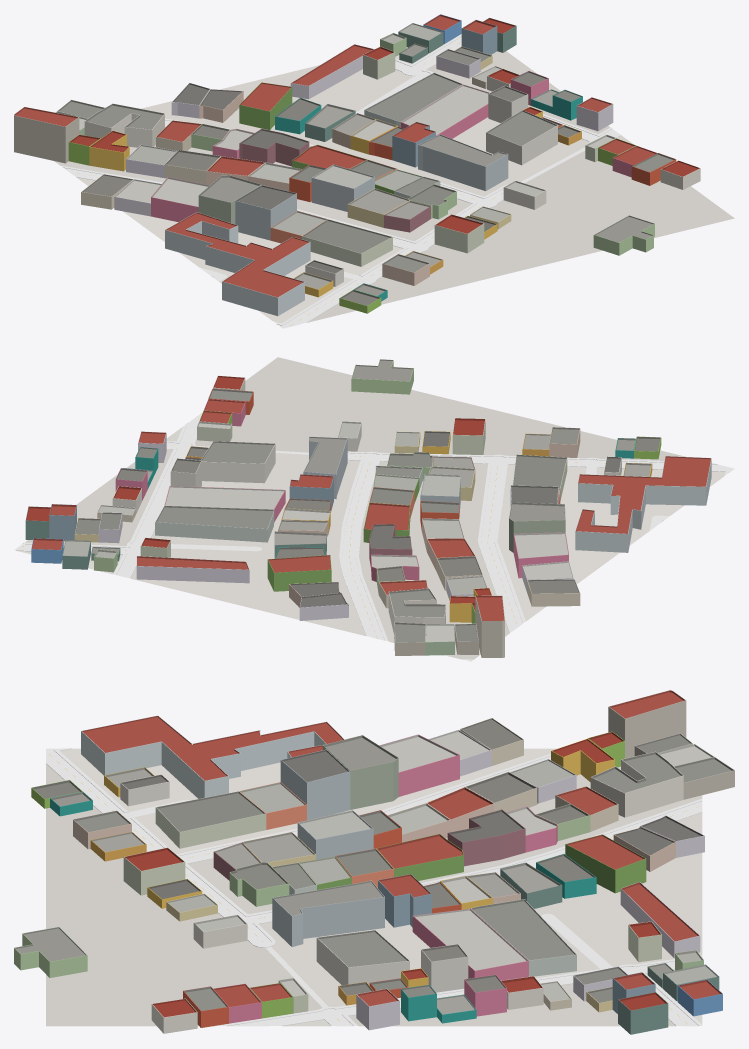
The picture shows the model from 3 angles, top to bottom: view 1: azimuth 30°, elevation 25°; view 2: azimuth 150°, elevation 25°; view 3: azimuth 270°, elevation 25°; orthographic projection. The views are drawn at different scales.
Parts seen in each view (by area): view 1: roofs, walls, ground, asphalt, sidewalk; view 2: roofs, ground, walls, asphalt, sidewalk; view 3: roofs, walls, ground, asphalt, sidewalk.
Boxes of the visible parts, x1,y1,x2,y2 form: roofs: [14, 14, 700, 306]; walls: [14, 20, 700, 316]; ground: [54, 43, 734, 323]; asphalt: [64, 37, 618, 328]; sidewalk: [61, 34, 621, 325]; roofs: [25, 359, 711, 642]; ground: [17, 357, 725, 659]; walls: [25, 360, 711, 657]; asphalt: [16, 412, 734, 640]; sidewalk: [14, 423, 729, 661]; roofs: [14, 690, 734, 1017]; walls: [14, 700, 734, 1034]; ground: [46, 748, 702, 1026]; asphalt: [46, 748, 702, 1026]; sidewalk: [46, 748, 702, 1026].
Size of what is drawn, in the model's own units: 271 by 19.33 by 275.
